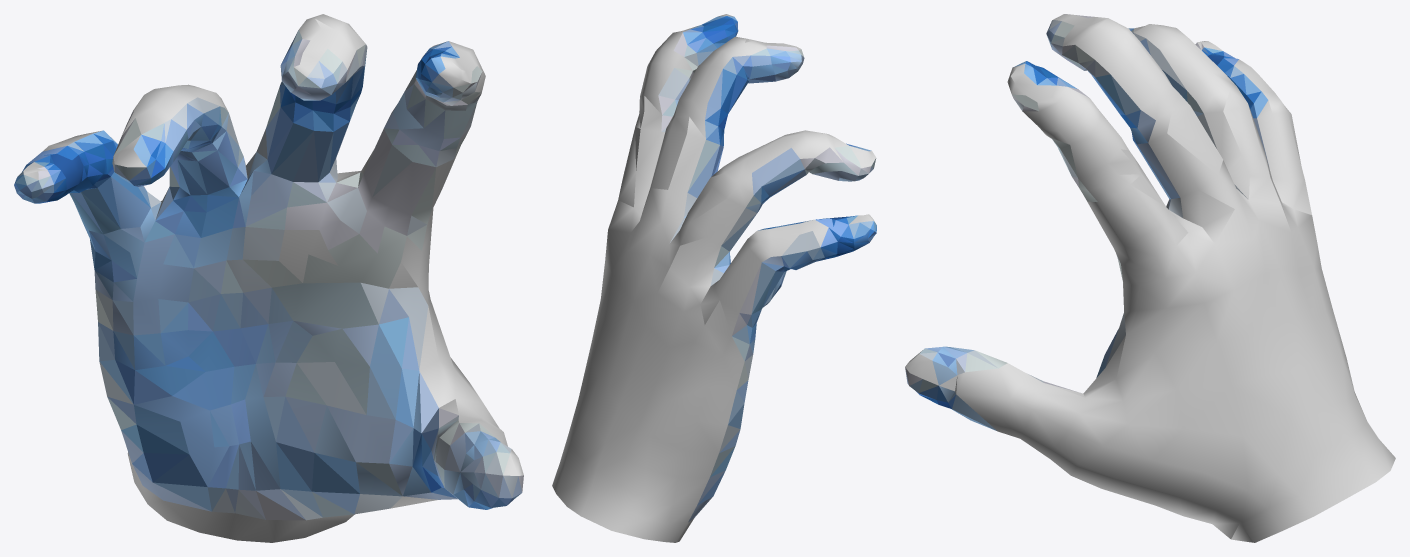
The model's file is glove_eraser.glb.
3 renders of one model, left to right at view 1: azimuth 30°, elevation 25°; view 2: azimuth 150°, elevation 25°; view 3: azimuth 270°, elevation 25°, orthographic. The views are drawn at different scales.
Visible parts, largest first — view 1: mesh0; view 2: mesh0; view 3: mesh0.
Boxes of the visible parts, x1,y1,x2,y2 form: mesh0: [14, 14, 523, 542]; mesh0: [552, 14, 876, 542]; mesh0: [905, 14, 1395, 542].
Size of the model in its own units: 0.1212 by 0.1677 by 0.1525.
